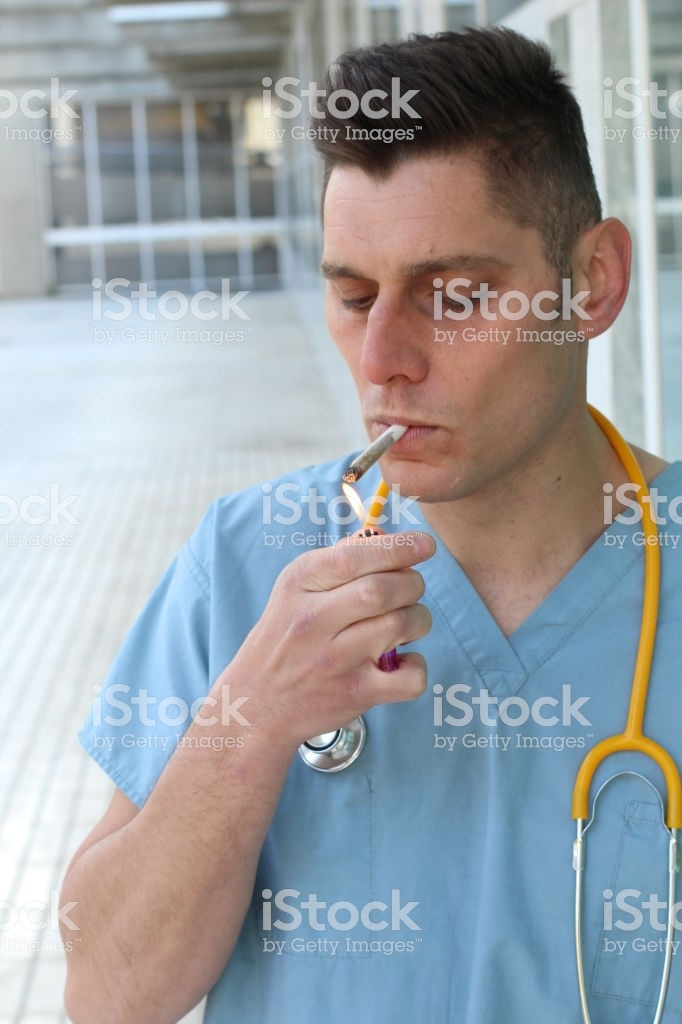sigaretta: (347, 420, 408, 477)
